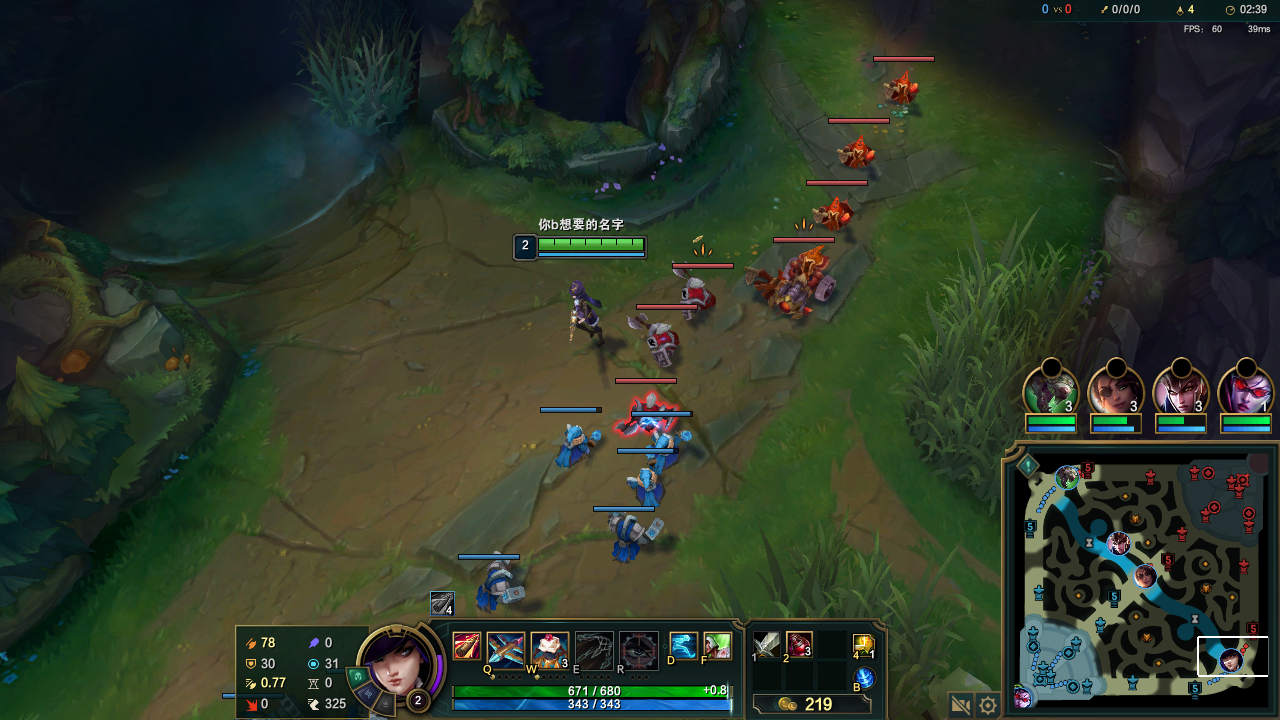DFXB: (773, 244, 836, 310), (621, 394, 676, 436), (834, 126, 877, 170), (676, 272, 717, 316), (641, 320, 679, 366), (883, 69, 921, 105), (814, 198, 852, 229)
WFXB: (600, 512, 664, 563), (554, 417, 602, 465), (475, 560, 521, 608), (649, 429, 694, 465), (628, 461, 666, 503)
Yita: (1188, 676, 1203, 698)
